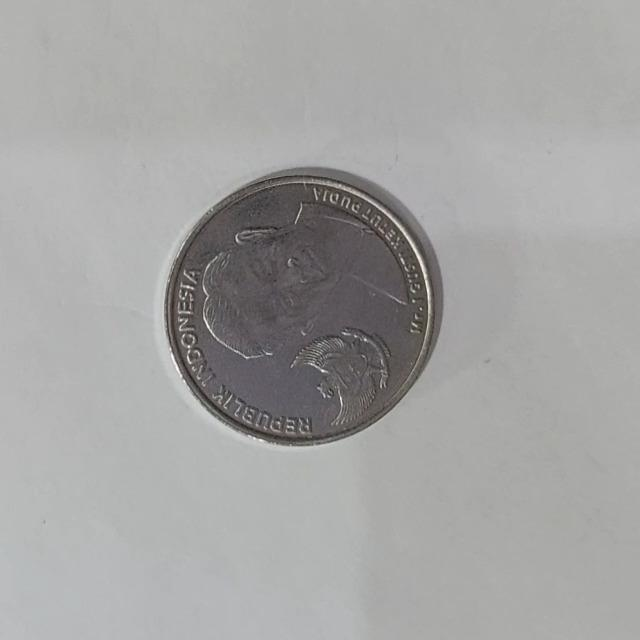Rp100: (162, 166, 442, 446)
